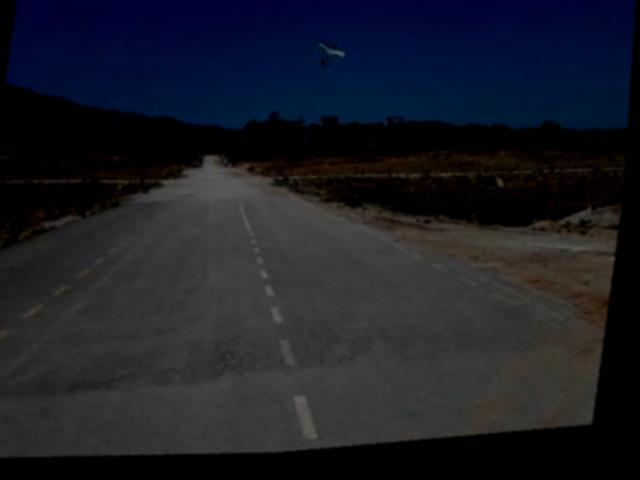uav: (312, 42, 349, 74)
